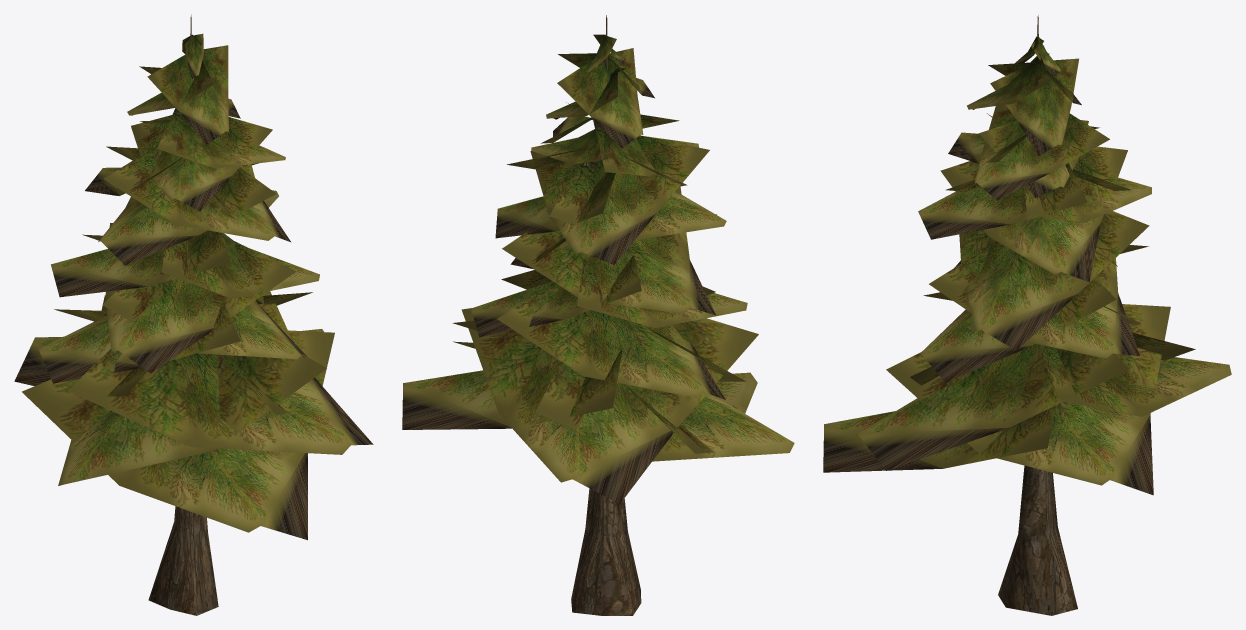
Rendered from kqzd_shu_4.FBX.
3 renders of one model, left to right at view 1: azimuth 30°, elevation 25°; view 2: azimuth 150°, elevation 25°; view 3: azimuth 270°, elevation 25°, orthographic.
Parts seen in each view (by area): view 1: kqzd_shu_4, kqzd_shu_4_1; view 2: kqzd_shu_4, kqzd_shu_4_1; view 3: kqzd_shu_4, kqzd_shu_4_1.
Boxes of the visible parts, x1,y1,x2,y2 form: kqzd_shu_4: (14, 33, 373, 540); kqzd_shu_4_1: (148, 14, 218, 615); kqzd_shu_4: (402, 34, 794, 503); kqzd_shu_4_1: (571, 15, 641, 615); kqzd_shu_4: (823, 36, 1231, 495); kqzd_shu_4_1: (998, 15, 1077, 615).
Bounding box in the file's own units: 715 × 1226 × 772.
